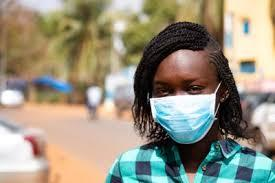Wearing Mask: (133, 19, 242, 151)
